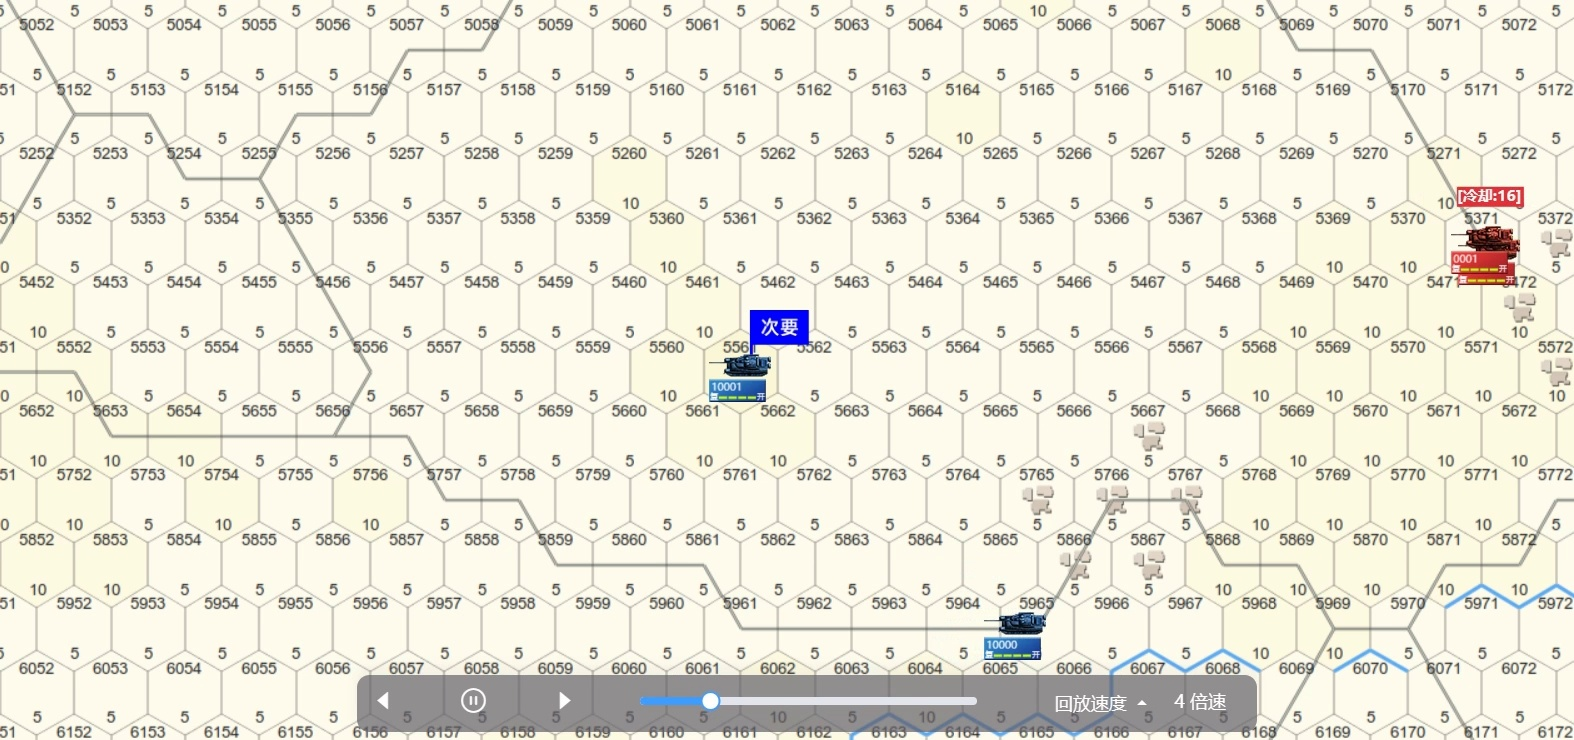blue_tank: (706, 358, 769, 403), (984, 616, 1049, 658)
red_tank: (1457, 230, 1525, 288)
